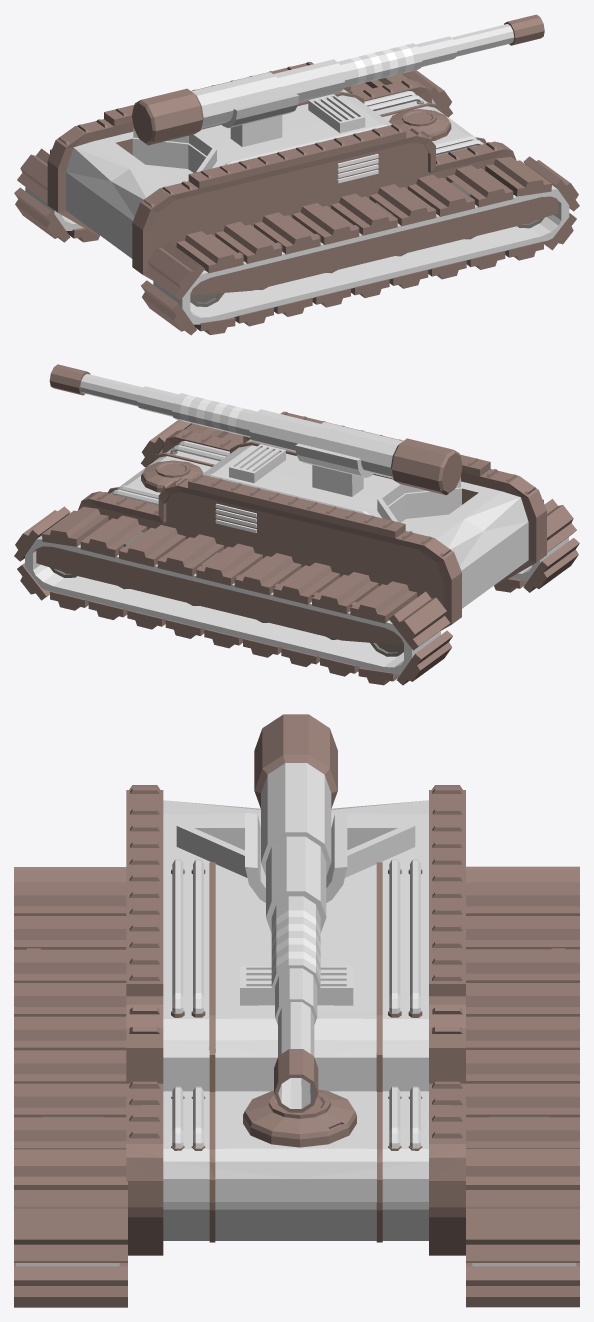
Rendered from tk_tiger.glb.
3 views of the same model, one above another, from view 1: azimuth 30°, elevation 25°; view 2: azimuth 150°, elevation 25°; view 3: azimuth 270°, elevation 25° (orthographic). The views are drawn at different scales.
Parts seen in each view (by area): view 1: hull, trackR, gun, trackL, turret; view 2: hull, trackL, gun, trackR, turret; view 3: hull, trackL, trackR, gun, turret.
Boxes of the visible parts, <box> form: hull: <box>25,61,569,324</box>; trackR: <box>141,156,579,335</box>; gun: <box>132,14,544,145</box>; trackL: <box>14,70,452,242</box>; turret: <box>221,93,299,146</box>; hull: <box>25,411,568,674</box>; trackL: <box>14,506,452,685</box>; gun: <box>49,364,462,495</box>; trackR: <box>141,420,579,592</box>; turret: <box>295,443,372,496</box>; hull: <box>16,785,576,1266</box>; trackL: <box>466,866,579,1307</box>; trackR: <box>14,867,127,1307</box>; gun: <box>254,714,337,1112</box>; turret: <box>245,813,347,902</box>.
Size of the model in its own units: 16.16 by 6 by 9.98.
